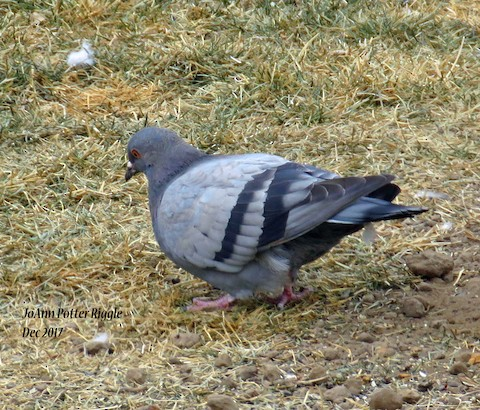pigeon: (123, 115, 430, 311)
